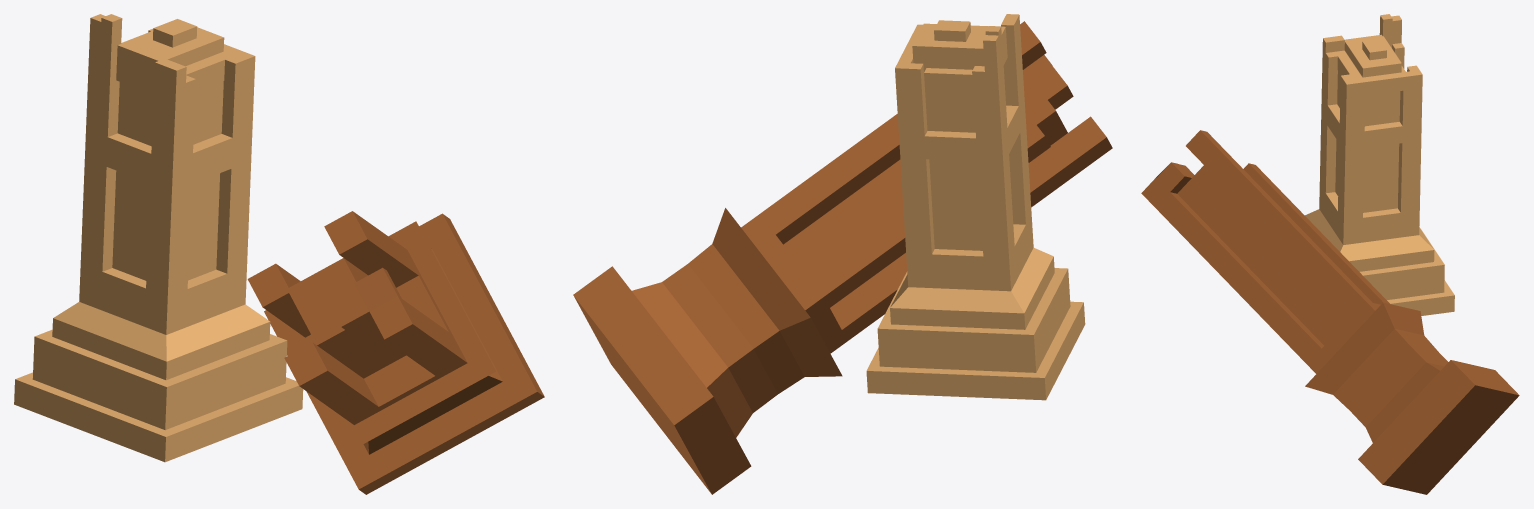
3 renders of one model, left to right at view 1: azimuth 30°, elevation 25°; view 2: azimuth 150°, elevation 25°; view 3: azimuth 270°, elevation 25°, orthographic. The views are drawn at different scales.
Visible parts, largest first — view 1: Medium Pillar, Large Pillar; view 2: Large Pillar, Medium Pillar; view 3: Large Pillar, Medium Pillar.
Boxes of the visible parts, left/top/right/bottom form: Medium Pillar: left=14, top=14, right=303, bottom=462; Large Pillar: left=247, top=211, right=544, bottom=494; Large Pillar: left=573, top=21, right=1112, bottom=494; Medium Pillar: left=866, top=14, right=1085, bottom=400; Large Pillar: left=1141, top=130, right=1519, bottom=494; Medium Pillar: left=1305, top=14, right=1454, bottom=315.
Size of the model in its own units: 3.45 by 3.69 by 3.29.
